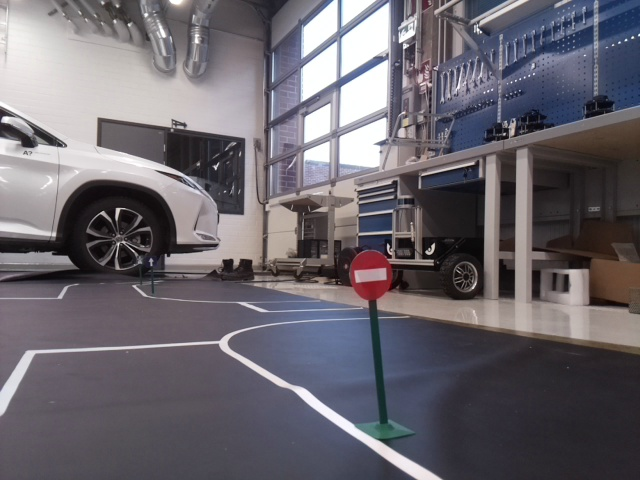NoEntry: (349, 250, 391, 300)
